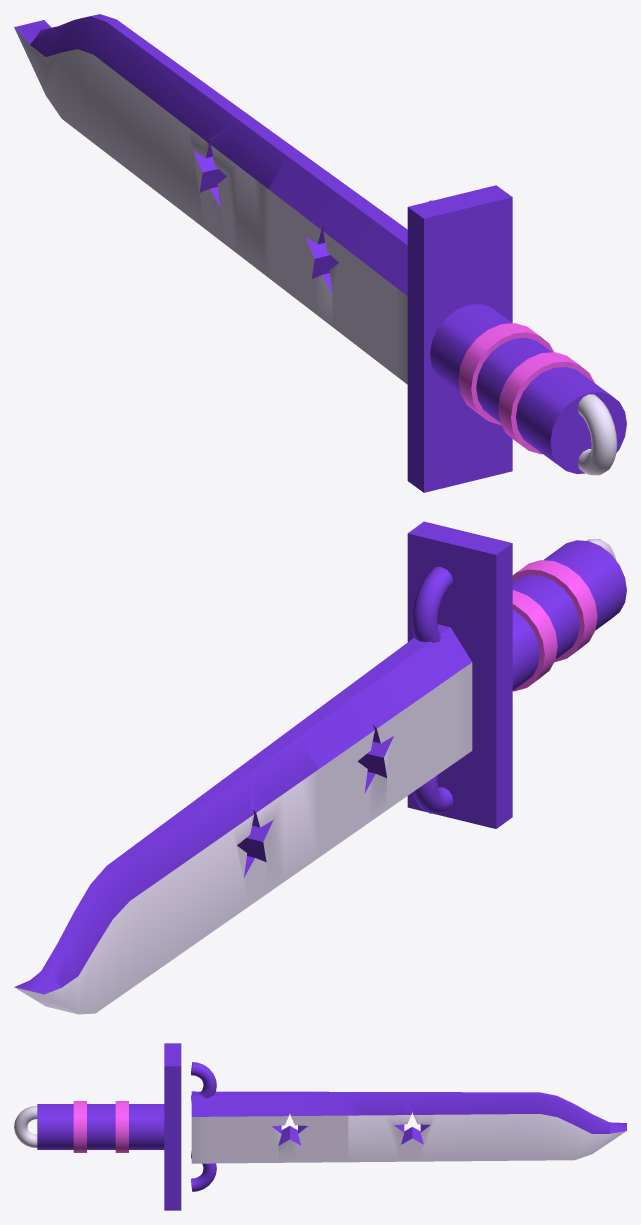
The model's file is Sword_StarlessSabre.glb.
The picture shows the model from 3 angles, top to bottom: view 1: azimuth 30°, elevation 25°; view 2: azimuth 150°, elevation 25°; view 3: azimuth 270°, elevation 25°; orthographic projection. The views are drawn at different scales.
Visible parts, largest first — view 1: Sword_StarlessSabre; view 2: Sword_StarlessSabre; view 3: Sword_StarlessSabre.
Part boxes in pixels (x1,y1,x2,y2): Sword_StarlessSabre: (14,14,626,492); Sword_StarlessSabre: (14,521,626,1014); Sword_StarlessSabre: (14,1043,626,1210).
Bounding box in the file's own units: 0.088 × 0.26 × 1.
Materials: 1 (1 with a texture image).
